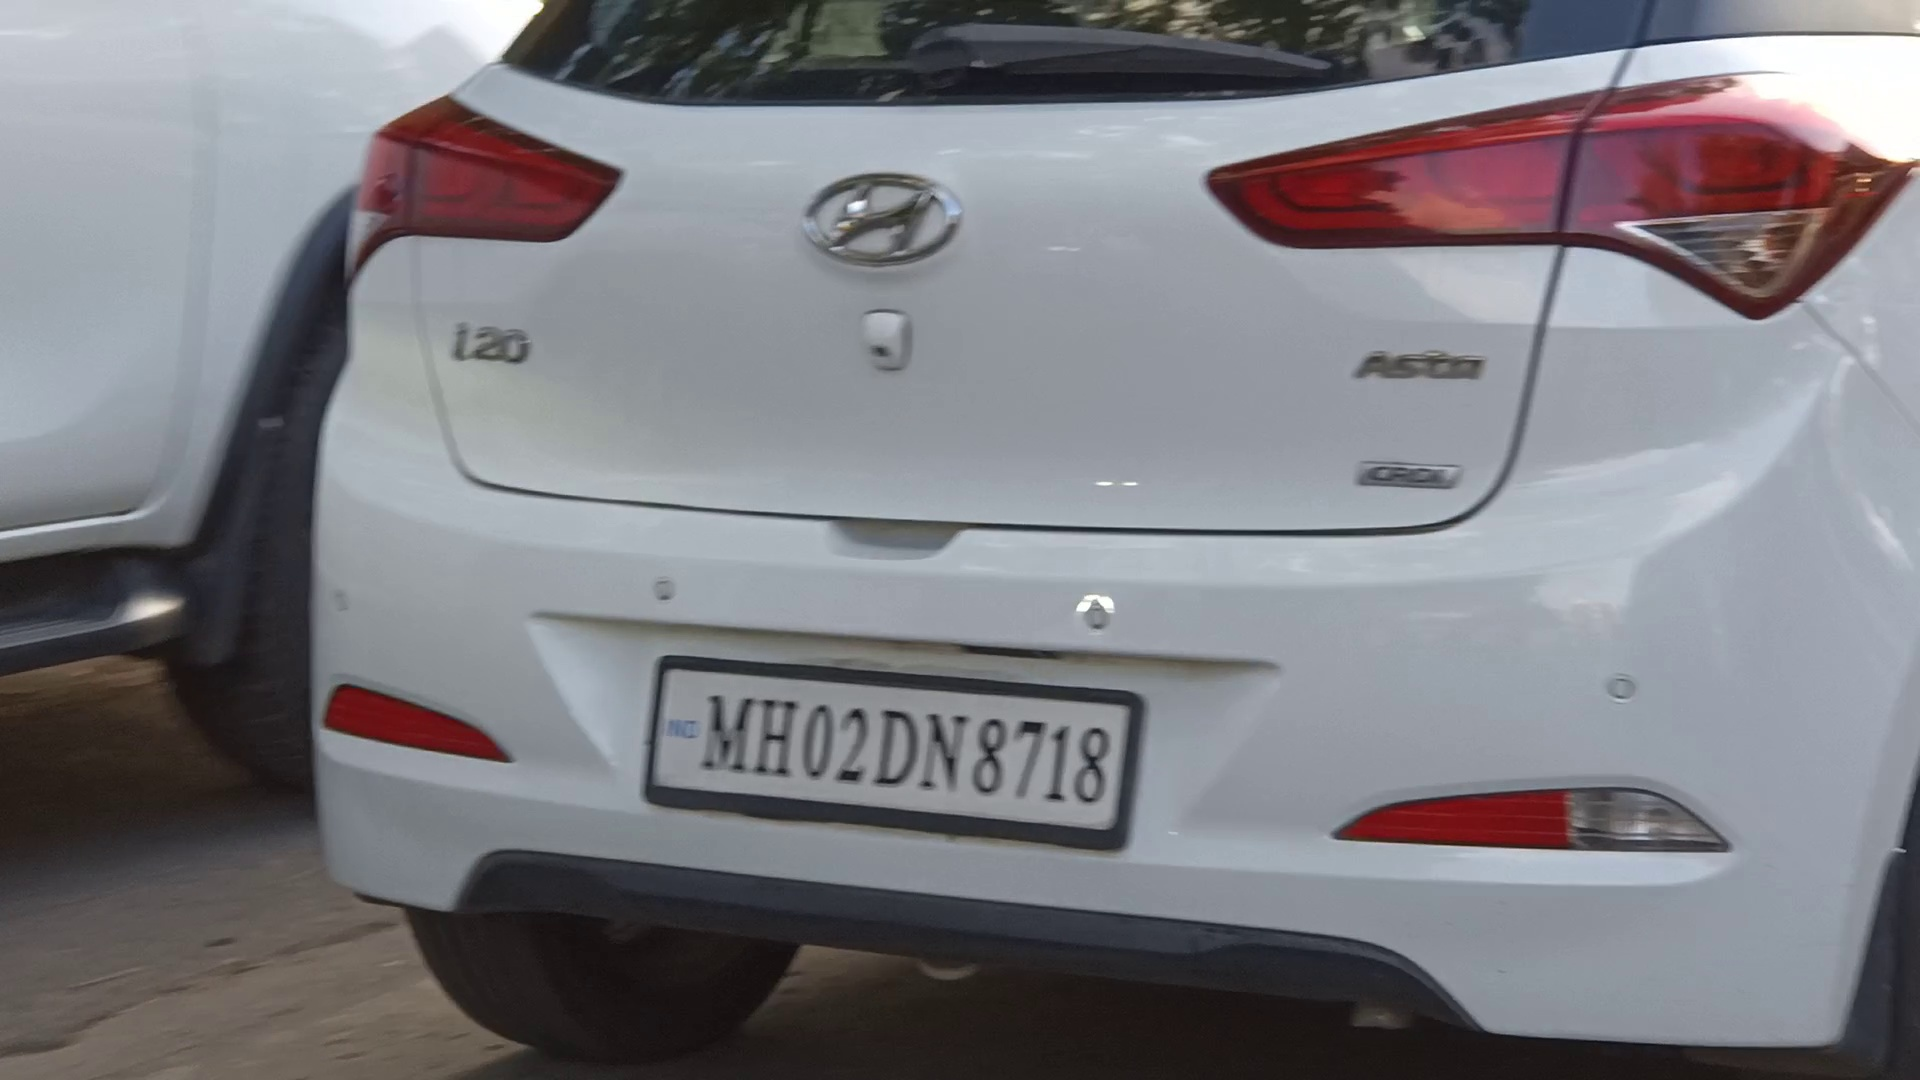MH02DN8718: (646, 667, 1129, 832)
